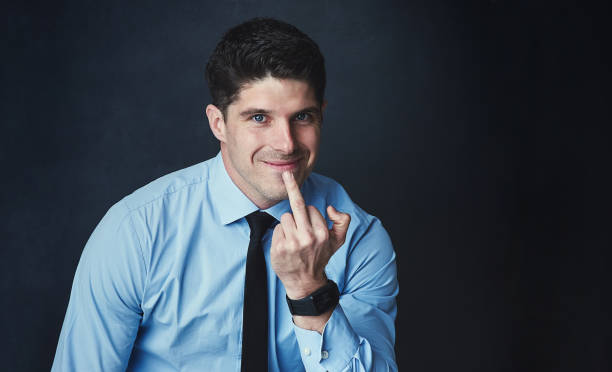insulting_gesture: (266, 170, 351, 299)
